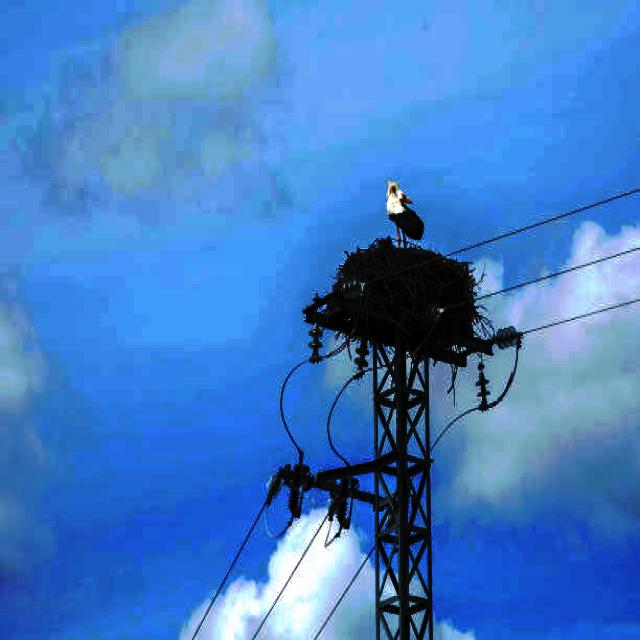obstruction: (307, 238, 495, 364)
poles: (305, 328, 431, 638)
wires: (430, 293, 639, 450), (447, 187, 639, 259), (190, 483, 278, 638), (251, 508, 342, 638), (481, 243, 639, 300), (313, 551, 371, 638), (277, 359, 315, 460)
